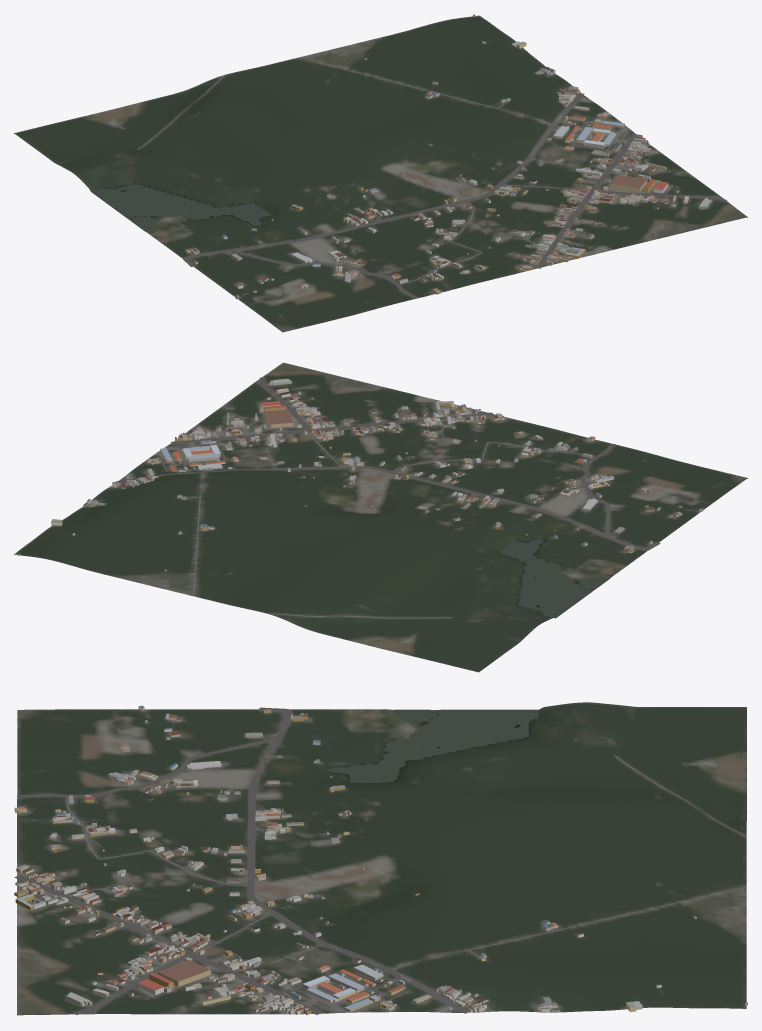
The picture shows the model from 3 angles, top to bottom: view 1: azimuth 30°, elevation 25°; view 2: azimuth 150°, elevation 25°; view 3: azimuth 270°, elevation 25°; orthographic projection. The views are drawn at different scales.
Visible parts, largest first — view 1: ground, buildings, roads, water; view 2: ground, buildings, roads, water; view 3: ground, buildings, roads, water.
Boxes of the visible parts, x1=… form: ground: x1=14, y1=15, x2=747, y2=332; buildings: x1=185, y1=14, x2=712, y2=299; roads: x1=138, y1=57, x2=726, y2=298; water: x1=91, y1=184, x2=272, y2=230; ground: x1=14, y1=362, x2=747, y2=672; buildings: x1=17, y1=378, x2=703, y2=571; roads: x1=118, y1=377, x2=660, y2=618; water: x1=499, y1=539, x2=608, y2=617; ground: x1=17, y1=702, x2=746, y2=1015; buildings: x1=14, y1=705, x2=747, y2=1014; roads: x1=14, y1=707, x2=746, y2=1014; water: x1=328, y1=709, x2=538, y2=782.
Bounding box in the file's own units: 1420 × 35.83 × 1409.
